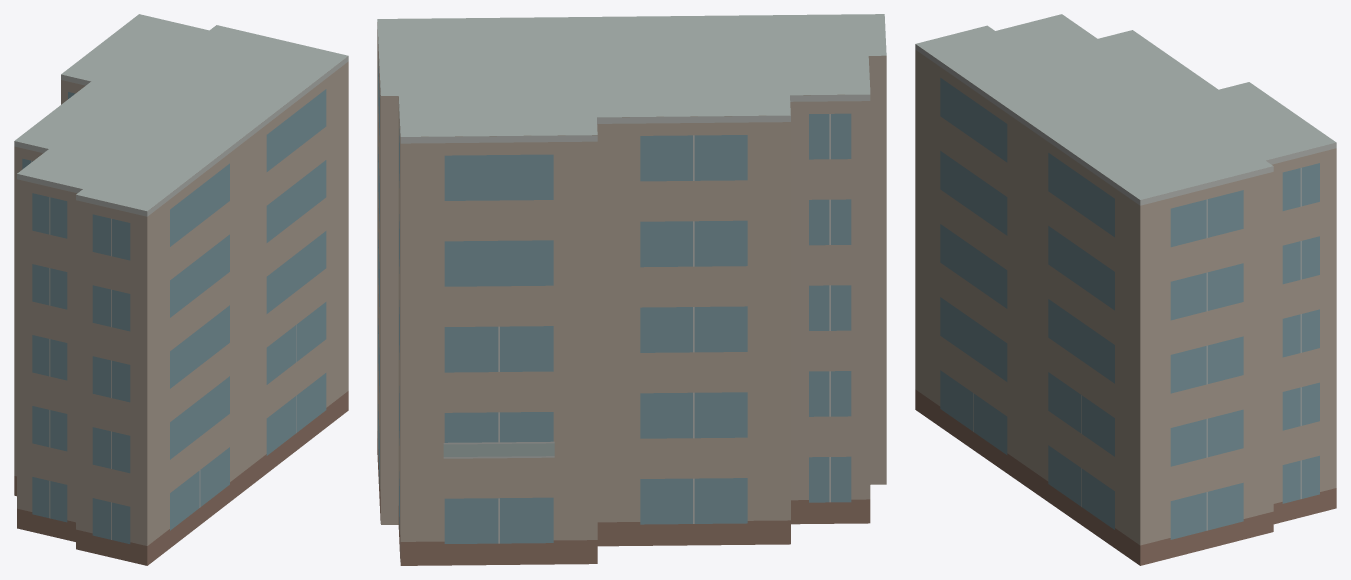
The model's file is survey-upis-32773913.glb.
The picture shows the model from 3 angles, left to right: view 1: azimuth 30°, elevation 25°; view 2: azimuth 150°, elevation 25°; view 3: azimuth 270°, elevation 25°; orthographic projection. The views are drawn at different scales.
Parts seen in each view (by area): view 1: survey-upis-32773913.tmp; view 2: survey-upis-32773913.tmp; view 3: survey-upis-32773913.tmp.
Part boxes in pixels (x1=…): survey-upis-32773913.tmp: x1=14, y1=14, x2=348, y2=565; survey-upis-32773913.tmp: x1=377, y1=14, x2=886, y2=565; survey-upis-32773913.tmp: x1=915, y1=14, x2=1336, y2=565.
Size of the model in its own units: 17.3 by 15.85 by 16.56.
